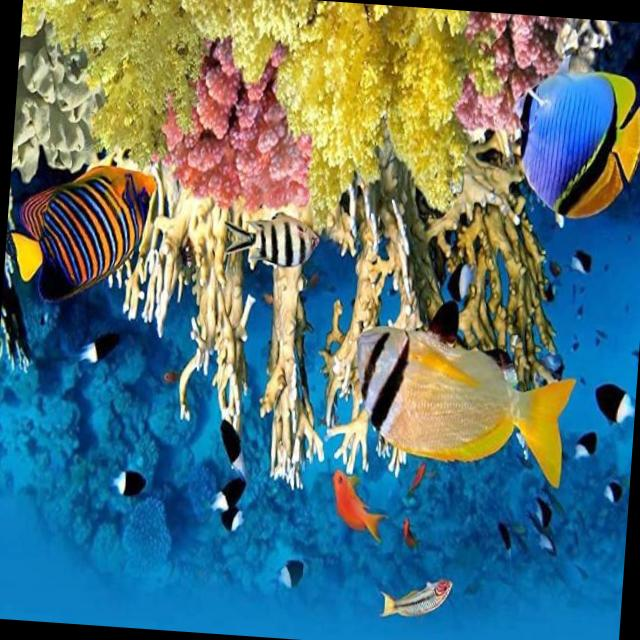ButterflyFish: (347, 306, 570, 504), (488, 44, 640, 242), (1, 158, 167, 314)
